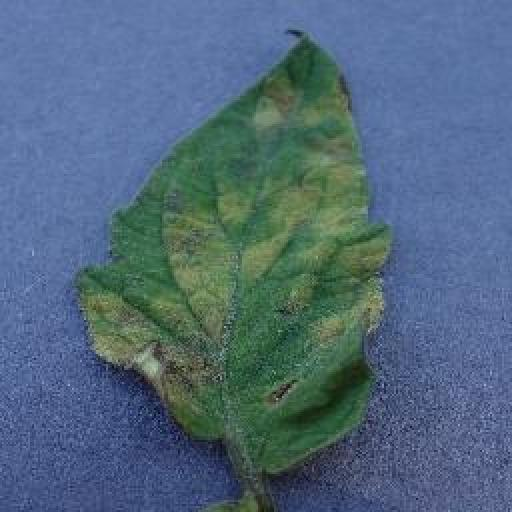Leaf Mold: (81, 38, 392, 470)
